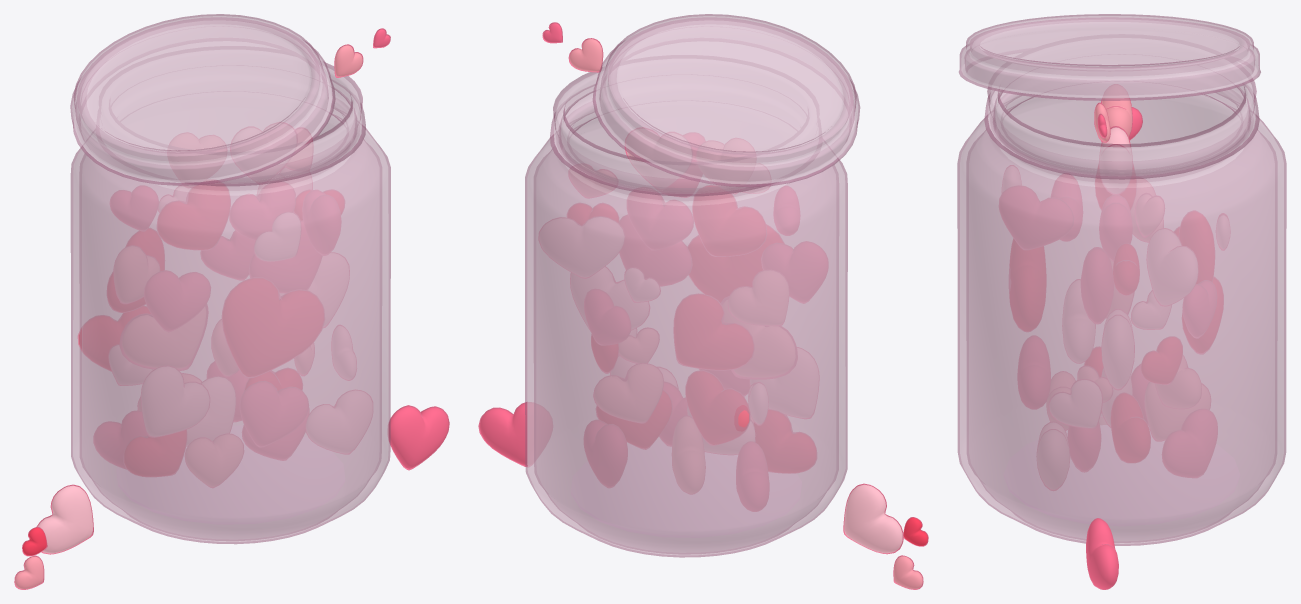
The picture shows the model from 3 angles, left to right: view 1: azimuth 30°, elevation 25°; view 2: azimuth 150°, elevation 25°; view 3: azimuth 270°, elevation 25°; orthographic projection. The views are drawn at different scales.
Parts seen in each view (by area): view 1: Object_7, Object_8, Object_5, Object_6, Object_4, Object_2, Object_3; view 2: Object_7, Object_8, Object_5, Object_6, Object_4, Object_2, Object_3; view 3: Object_7, Object_8, Object_5, Object_6, Object_4, Object_2, Object_3.
Boxes of the visible parts, x1,y1,x2,y2 form: Object_7: [70, 14, 390, 544]; Object_8: [72, 16, 388, 541]; Object_5: [15, 45, 448, 589]; Object_6: [79, 29, 389, 445]; Object_4: [117, 426, 344, 523]; Object_2: [36, 28, 390, 554]; Object_3: [14, 44, 449, 589]; Object_7: [525, 14, 860, 557]; Object_8: [527, 16, 858, 555]; Object_5: [479, 39, 927, 589]; Object_6: [540, 23, 846, 516]; Object_4: [571, 440, 801, 537]; Object_2: [539, 22, 903, 554]; Object_3: [478, 38, 928, 589]; Object_7: [957, 14, 1286, 545]; Object_8: [960, 16, 1283, 543]; Object_5: [1002, 85, 1229, 589]; Object_6: [1000, 115, 1225, 482]; Object_4: [1004, 425, 1239, 525]; Object_2: [1009, 84, 1218, 490]; Object_3: [999, 102, 1228, 589].
Bounding box in the file's own units: 3.65 × 3.86 × 2.32.
Materials: 5 (1 with a texture image).
